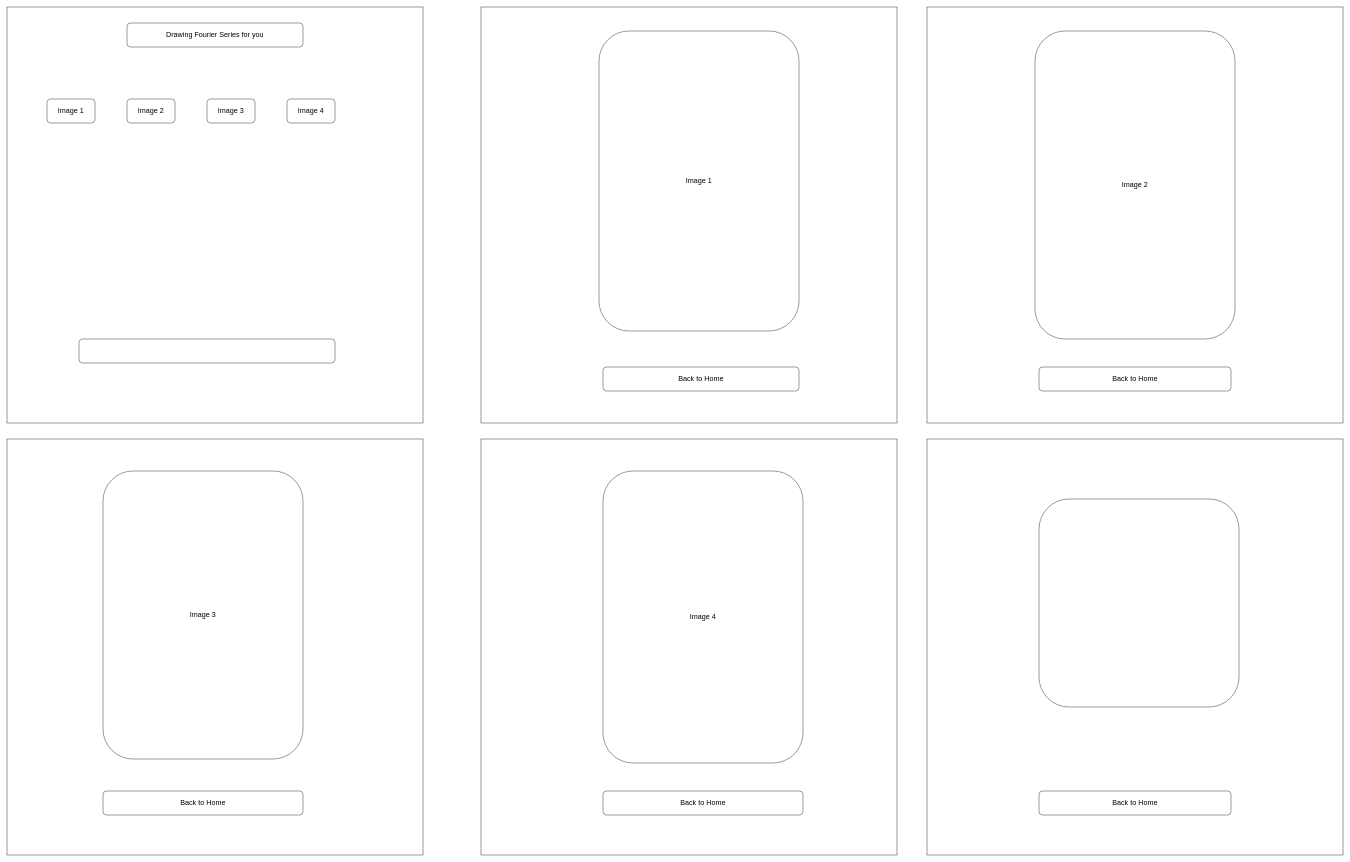
Image size: 1350x862. Some labels were removed from this diagram. Here are the shapes that lost their labels. From the top down, the centre of each, then its label:
At point (207, 351): "Basic Information on Fourier Series".
At point (1139, 603): "Information on Fourier Series".
